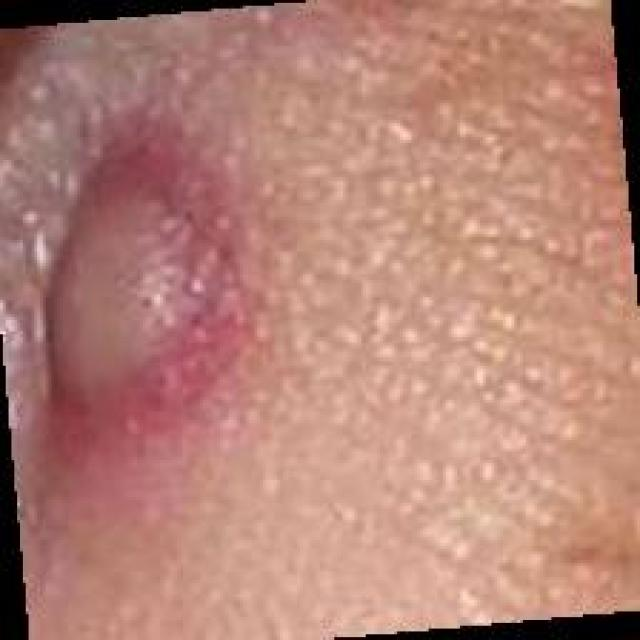monkeypox: (0, 33, 415, 571)
